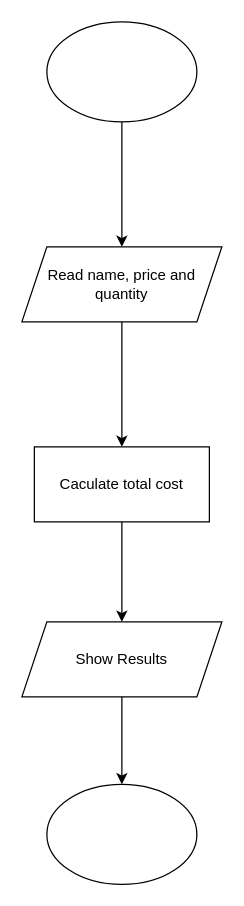
The diagram is 244 pixels wide and 906 high, and some of its shapes have lost their labels. The shapes that lost their labels are listed below. From the top down, each one's box as (x1, y1, x2, y2) in pixels, then its label:
(46, 21, 197, 122): Start
(46, 783, 197, 884): Finish
